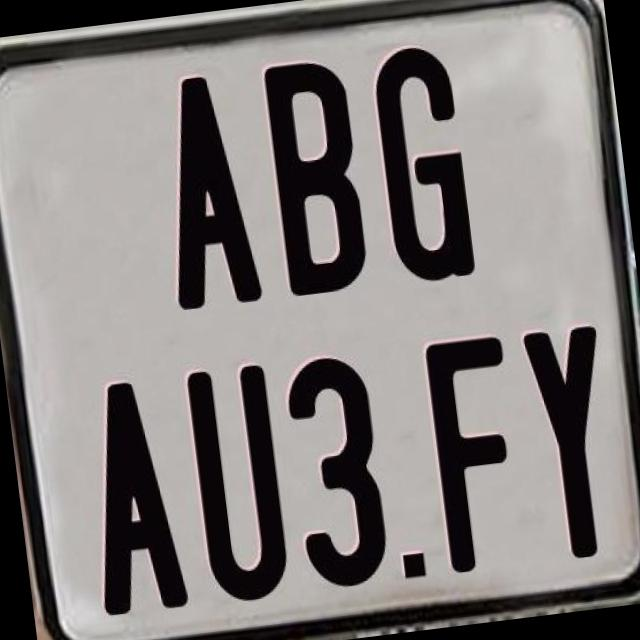3: (280, 352, 392, 592)
A: (150, 68, 268, 314), (77, 374, 188, 612)
B: (263, 57, 374, 296)
F: (422, 329, 529, 576)
G: (370, 41, 480, 283)
U: (185, 362, 297, 612)
Y: (520, 322, 628, 564)
